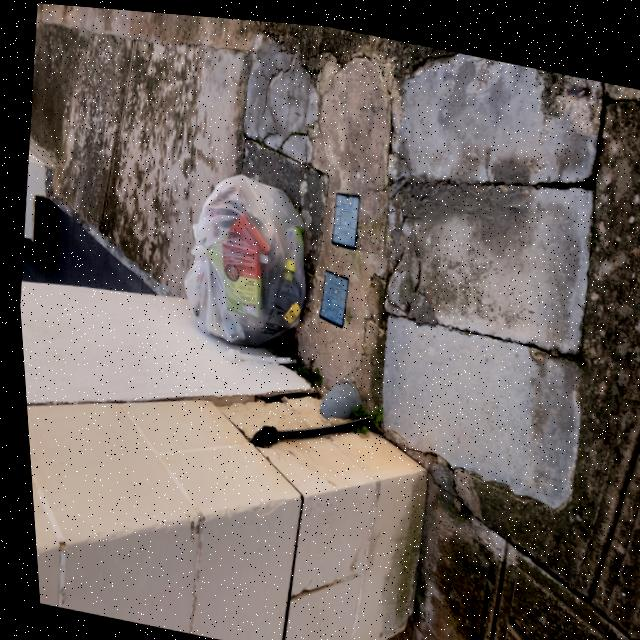Recycled Waste -Grey or Green Bag-: (168, 158, 320, 353)
